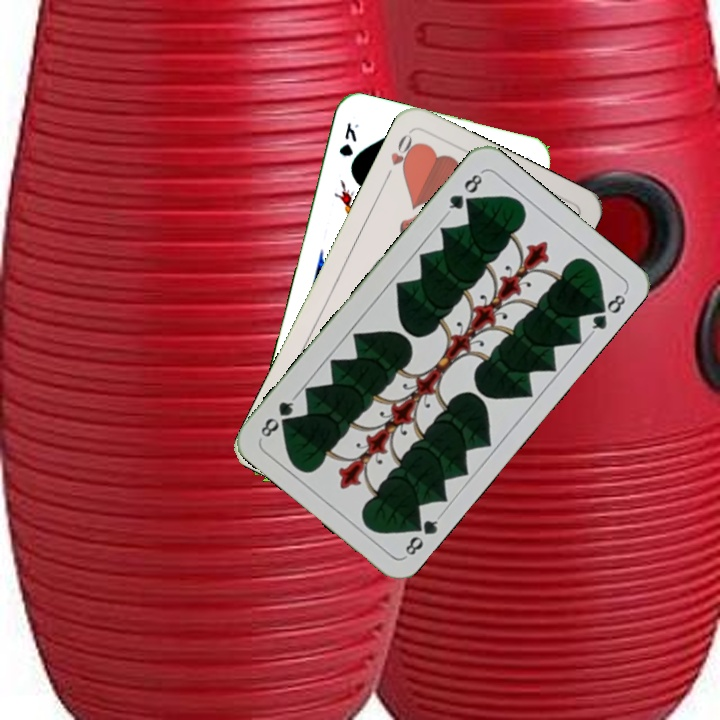G8: (443, 168, 486, 217), (401, 511, 444, 558)
GK: (335, 118, 361, 159)
HO: (381, 128, 420, 183)
